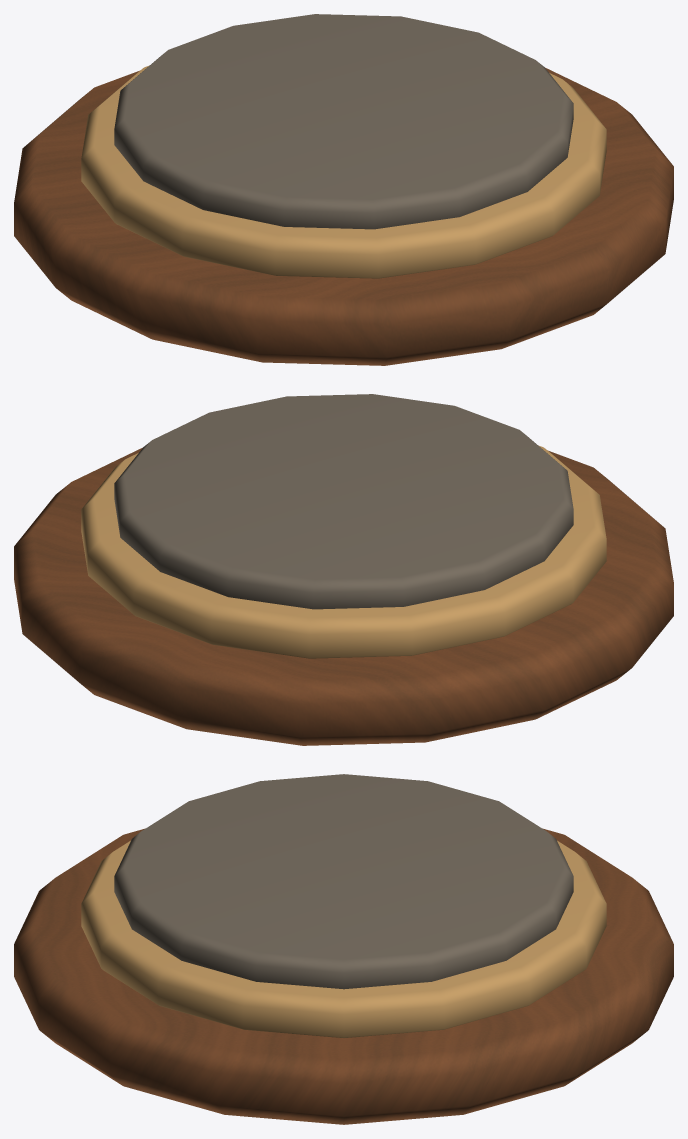
File: wind_control_dock.glb
3 views of the same model, one above another, from view 1: azimuth 30°, elevation 25°; view 2: azimuth 150°, elevation 25°; view 3: azimuth 270°, elevation 25° (orthographic).
Visible parts, largest first — view 1: Lens, Oak, Brass; view 2: Lens, Oak, Brass; view 3: Lens, Oak, Brass.
Part boxes in pixels (left/top/right/bottom): Lens: left=114, top=14, right=573, bottom=229; Oak: left=14, top=67, right=673, bottom=365; Brass: left=81, top=65, right=606, bottom=278; Lens: left=114, top=394, right=573, bottom=609; Oak: left=14, top=447, right=673, bottom=745; Brass: left=81, top=445, right=606, bottom=658; Lens: left=114, top=774, right=573, bottom=989; Oak: left=14, top=828, right=673, bottom=1124; Brass: left=81, top=840, right=606, bottom=1037.
Size of the model in its own units: 0.046 by 0.0097 by 0.046.
3 materials, 1 textured.
